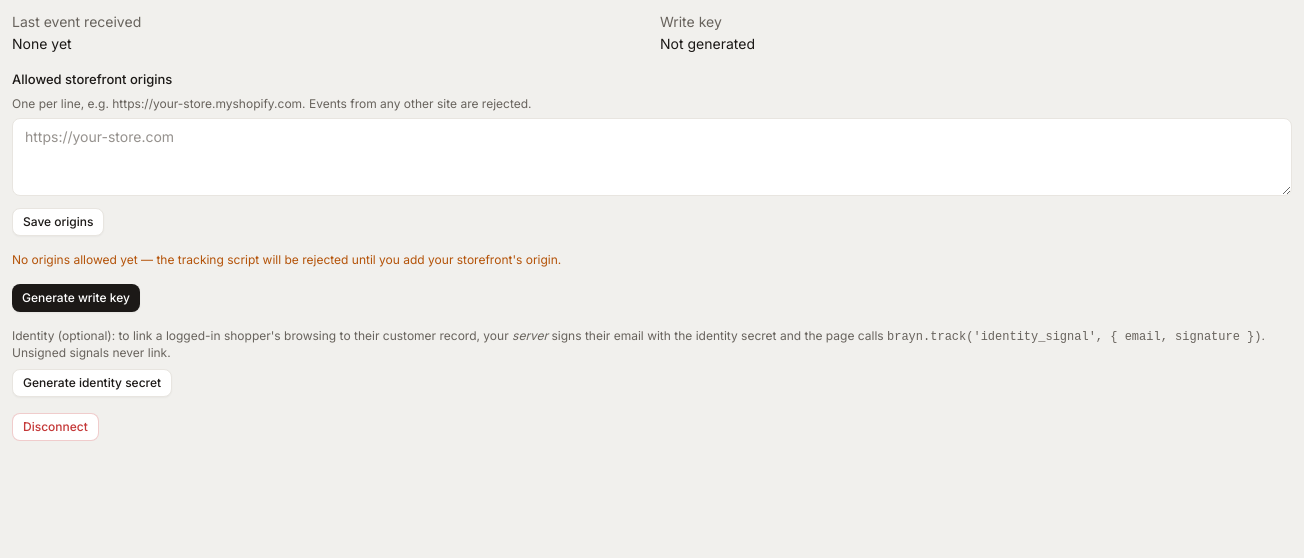
Test case: WebsiteTrackingSetup › generates an identity secret and shows it once with server-side signing guidance
Click the button "Generate identity secret" at (92, 382), box [12, 368, 172, 396]
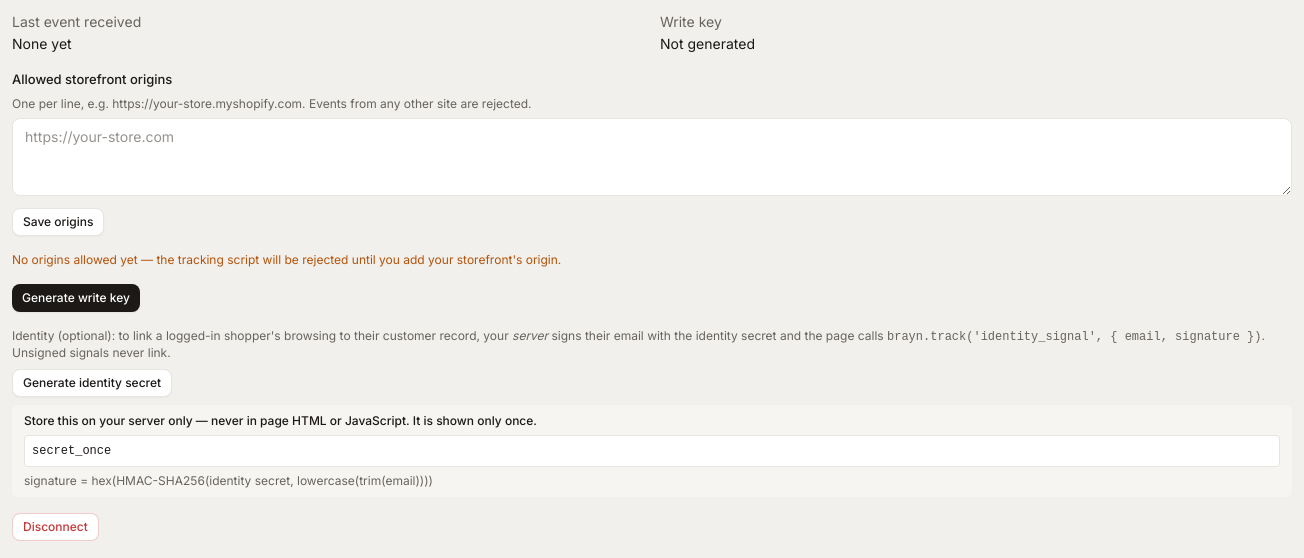
Result: the text "secret_once" is shown at [24, 434, 1280, 466]
Result: the text "never in page HTML or JavaScript" is shown at [24, 412, 537, 428]
